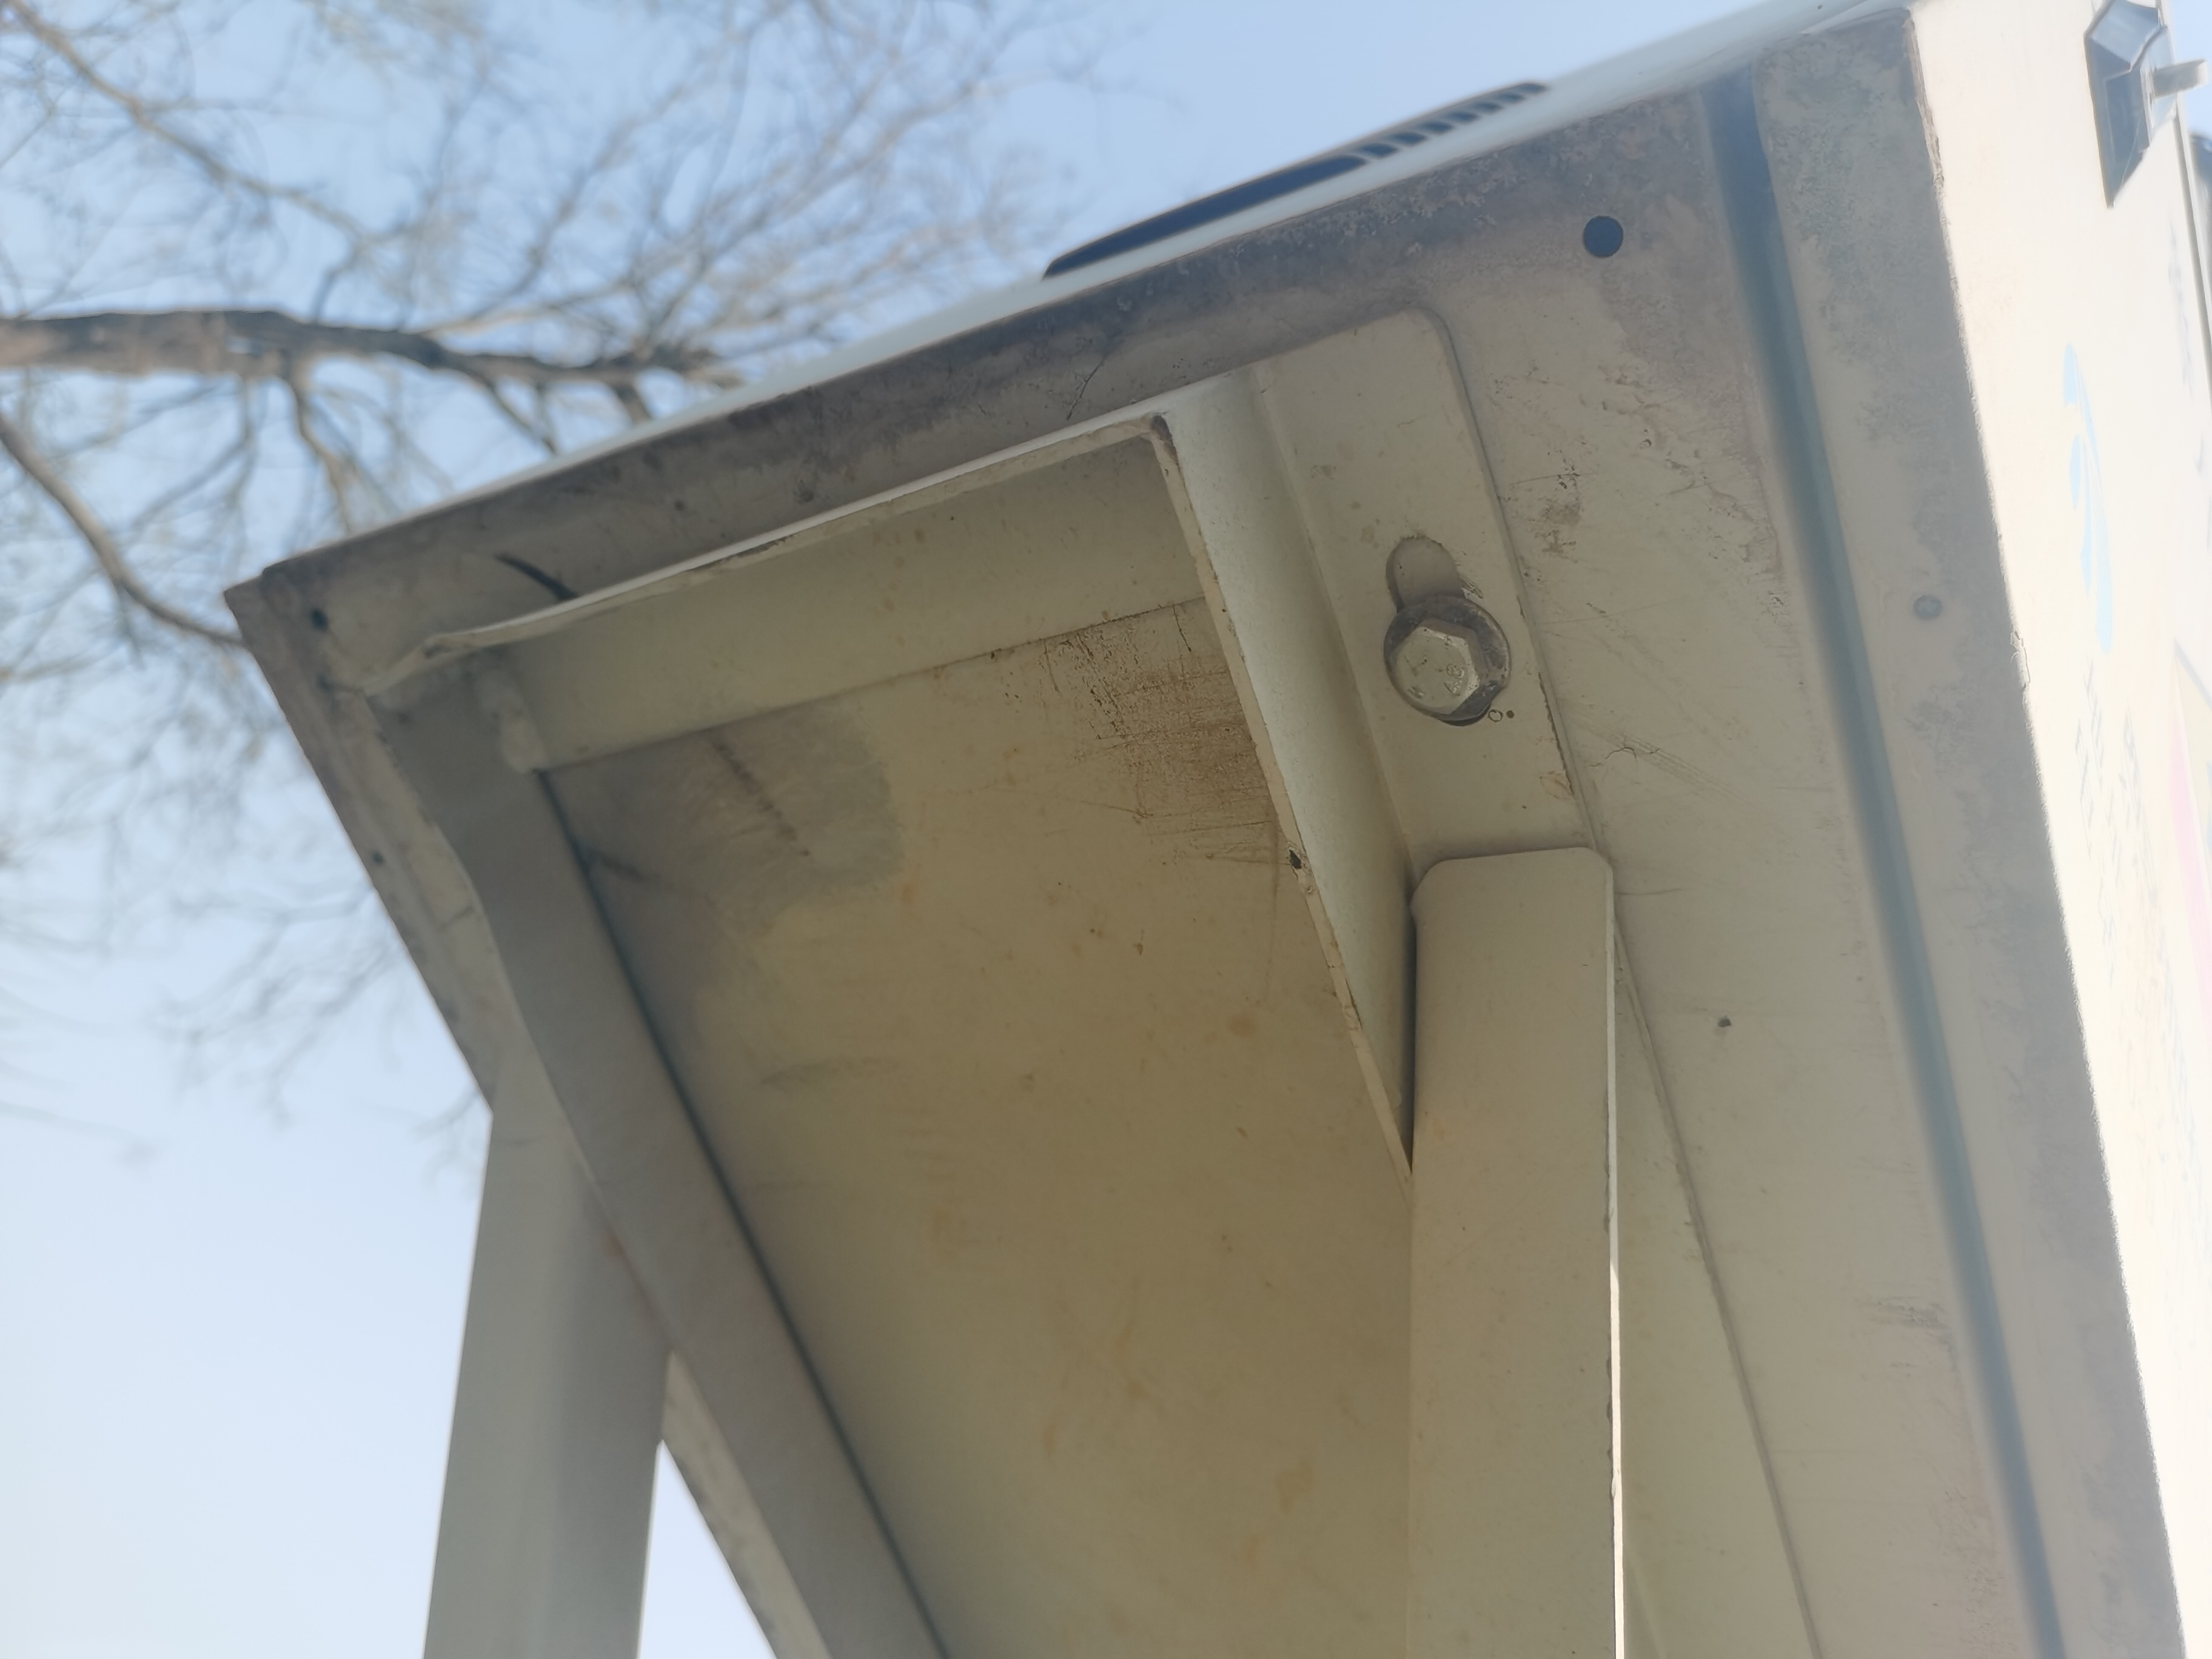bolt_a: (1379, 613, 1491, 720)
